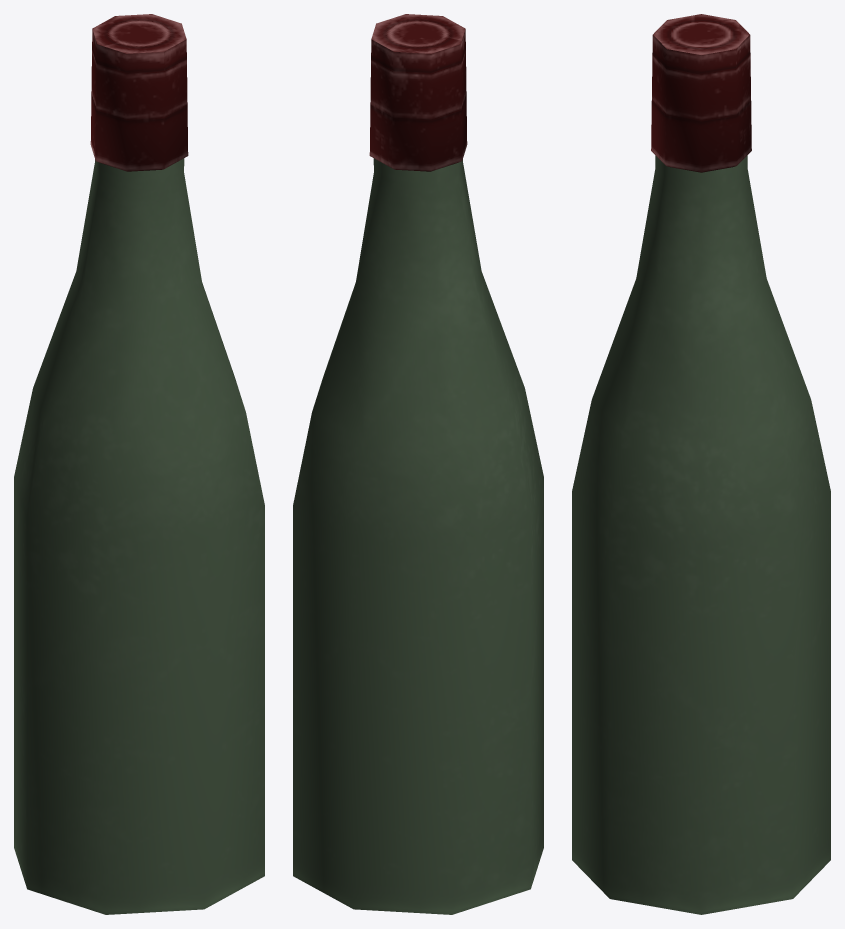
Rendered from LOD1_corkedSmallBottle_2.fbx.
3 views of the same model, side by side, from view 1: azimuth 30°, elevation 25°; view 2: azimuth 150°, elevation 25°; view 3: azimuth 270°, elevation 25° (orthographic).
Visible parts, largest first — view 1: LOD1_corkedSmallBottle_2; view 2: LOD1_corkedSmallBottle_2; view 3: LOD1_corkedSmallBottle_2.
Part boxes in pixels (x1,y1,x2,y2): LOD1_corkedSmallBottle_2: [14, 14, 264, 914]; LOD1_corkedSmallBottle_2: [293, 14, 543, 914]; LOD1_corkedSmallBottle_2: [572, 14, 830, 914].
Size of the model in its own units: 0.0929 by 0.3272 by 0.0929.
